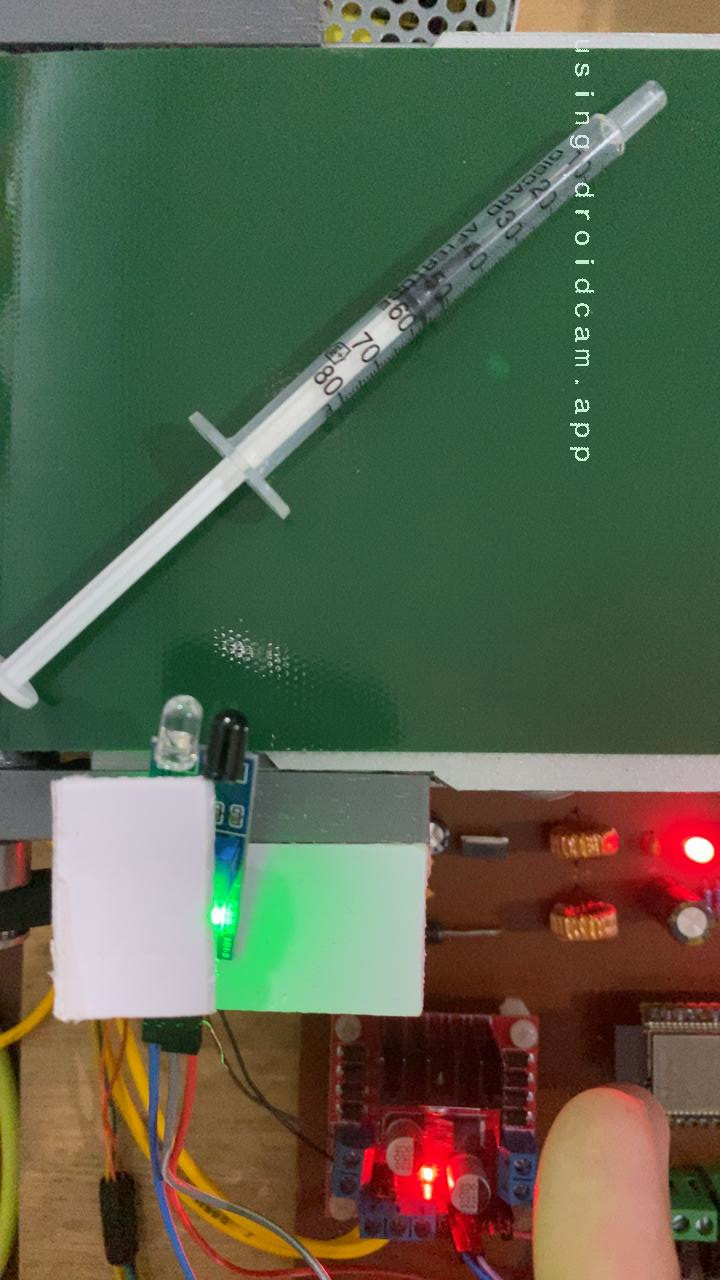syringe: (0, 74, 675, 717)
